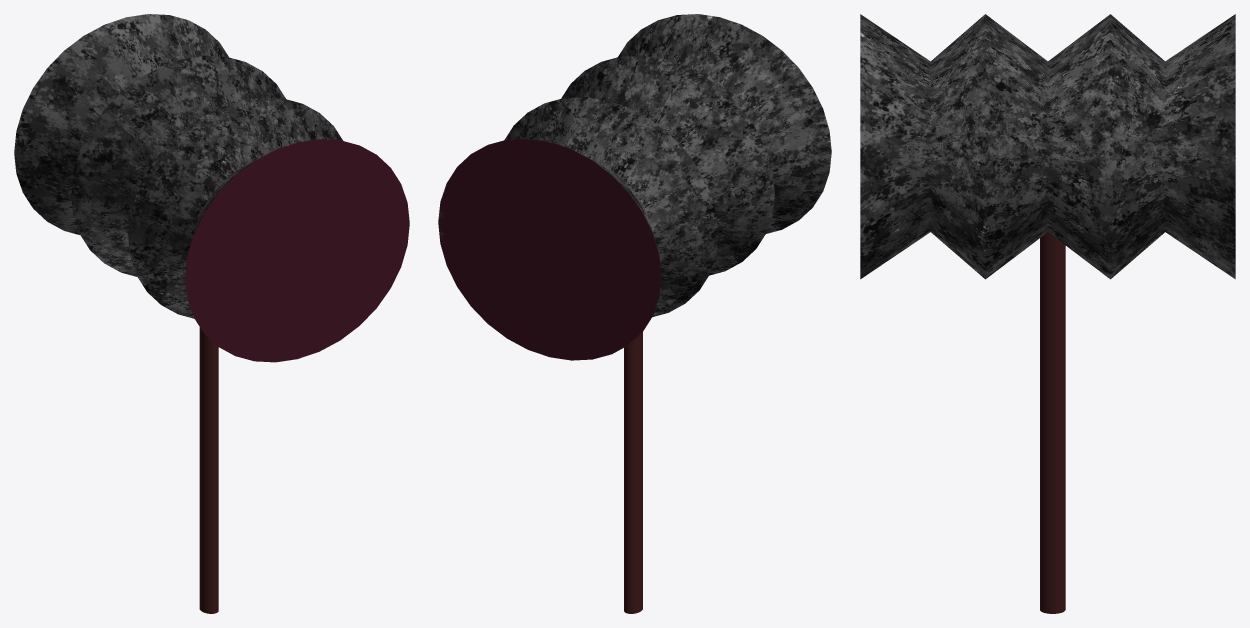
Rendered from hammer.obj.
3 views of the same model, side by side, from view 1: azimuth 30°, elevation 25°; view 2: azimuth 150°, elevation 25°; view 3: azimuth 270°, elevation 25° (orthographic). The views are drawn at different scales.
Parts seen in each view (by area): view 1: handle.001, handle.002; view 2: handle.001, handle.002; view 3: handle.001, handle.002.
Part boxes in pixels (left/top/right/bottom): handle.001: left=14, top=14, right=409, bottom=362; handle.002: left=199, top=327, right=218, bottom=613; handle.001: left=438, top=14, right=831, bottom=360; handle.002: left=624, top=332, right=642, bottom=613; handle.001: left=860, top=14, right=1235, bottom=279; handle.002: left=1040, top=232, right=1065, bottom=613.
Bounding box in the file's own units: 3.02 × 6.82 × 3.99.
Materials: 1 (1 with a texture image).
